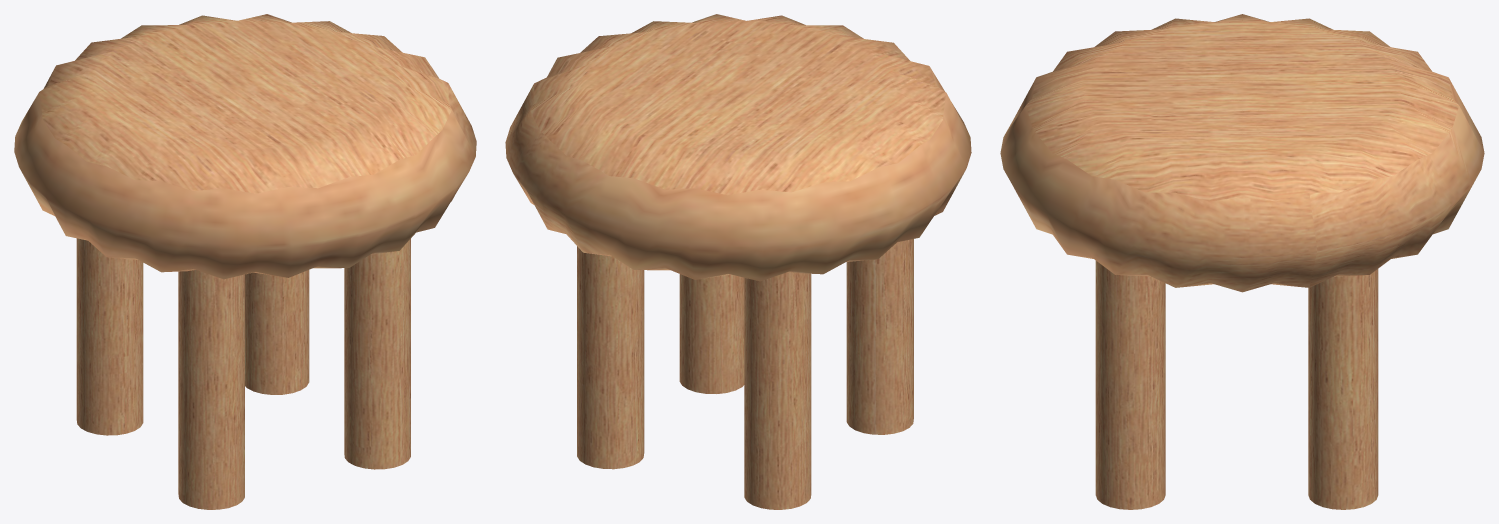
Rendered from Stool 1.fbx.
The picture shows the model from 3 angles, left to right: view 1: azimuth 30°, elevation 25°; view 2: azimuth 150°, elevation 25°; view 3: azimuth 270°, elevation 25°; orthographic projection. The views are drawn at different scales.
Visible parts, largest first — view 1: stool; view 2: stool; view 3: stool.
Part boxes in pixels (box(x1,y1,x2,y2)): stool: box(14, 14, 476, 509); stool: box(505, 14, 971, 509); stool: box(1000, 14, 1484, 509).
Size of the model in its own units: 1.38 by 1.15 by 1.38.
